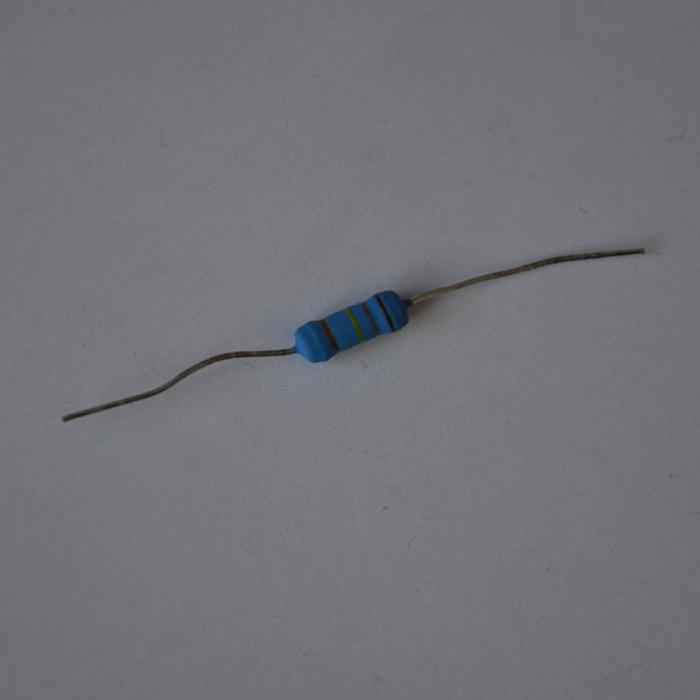resistor: (290, 289, 413, 362)
